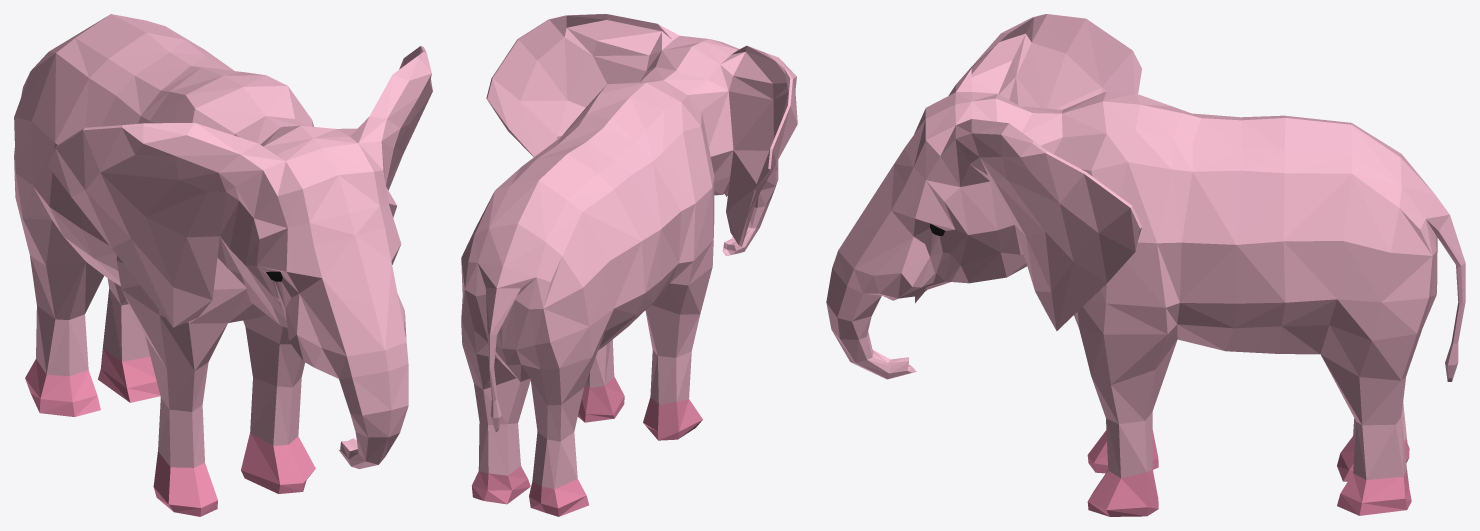
The model's file is animal_014.fbx.
3 renders of one model, left to right at view 1: azimuth 30°, elevation 25°; view 2: azimuth 150°, elevation 25°; view 3: azimuth 270°, elevation 25°, orthographic. The views are drawn at different scales.
Visible parts, largest first — view 1: animal.014; view 2: animal.014; view 3: animal.014.
Boxes of the visible parts, x1,y1,x2,y2 form: animal.014: (14, 14, 432, 516); animal.014: (461, 14, 797, 516); animal.014: (826, 14, 1465, 516).
Bounding box in the file's own units: 295 × 348 × 492.
Materials: 1 (1 with a texture image).
